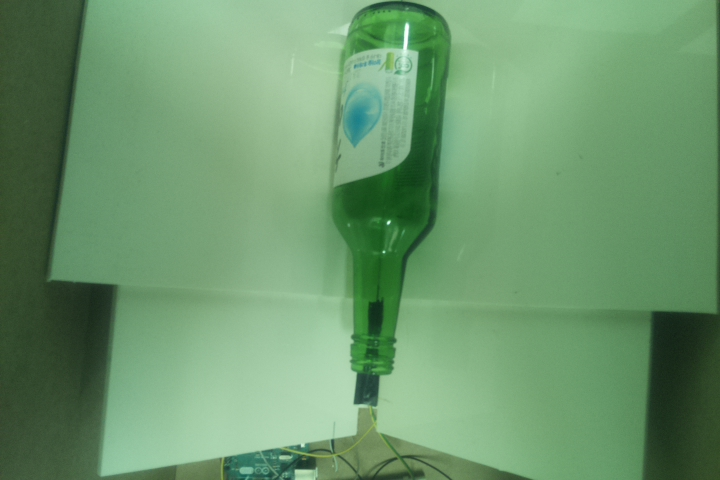soju: (329, 1, 451, 377)
